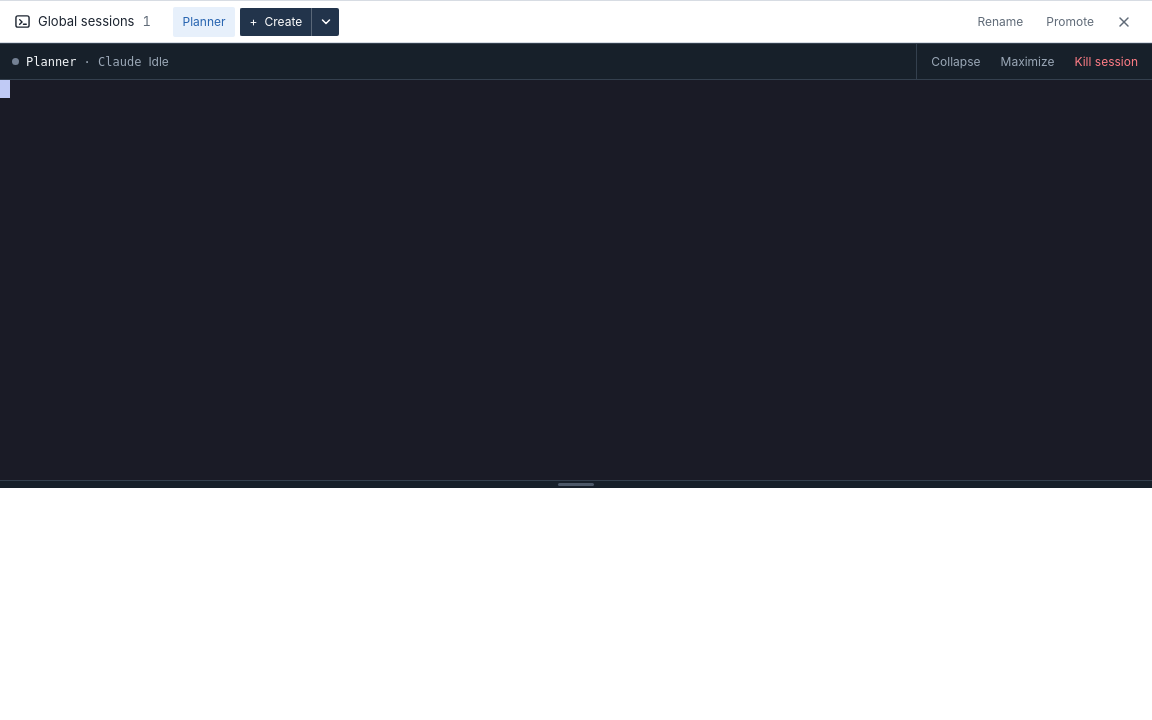
Test case: renames the selected tab and keeps it when kill fails
The width and height of the screenshot is (1152, 720).
Click the button "Rename": (1000, 22) x1=968 y1=7 x2=1032 y2=36
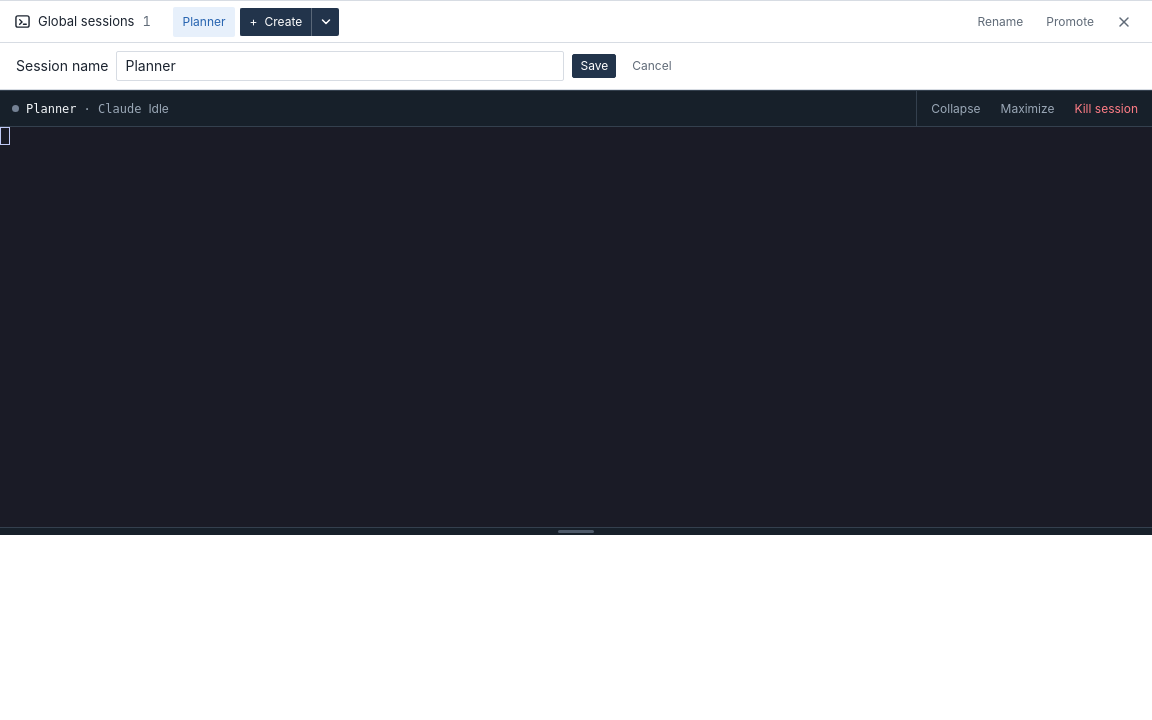
Replace the text in the field labelled "Session name" with "Architect": (340, 66) x1=116 y1=51 x2=564 y2=81
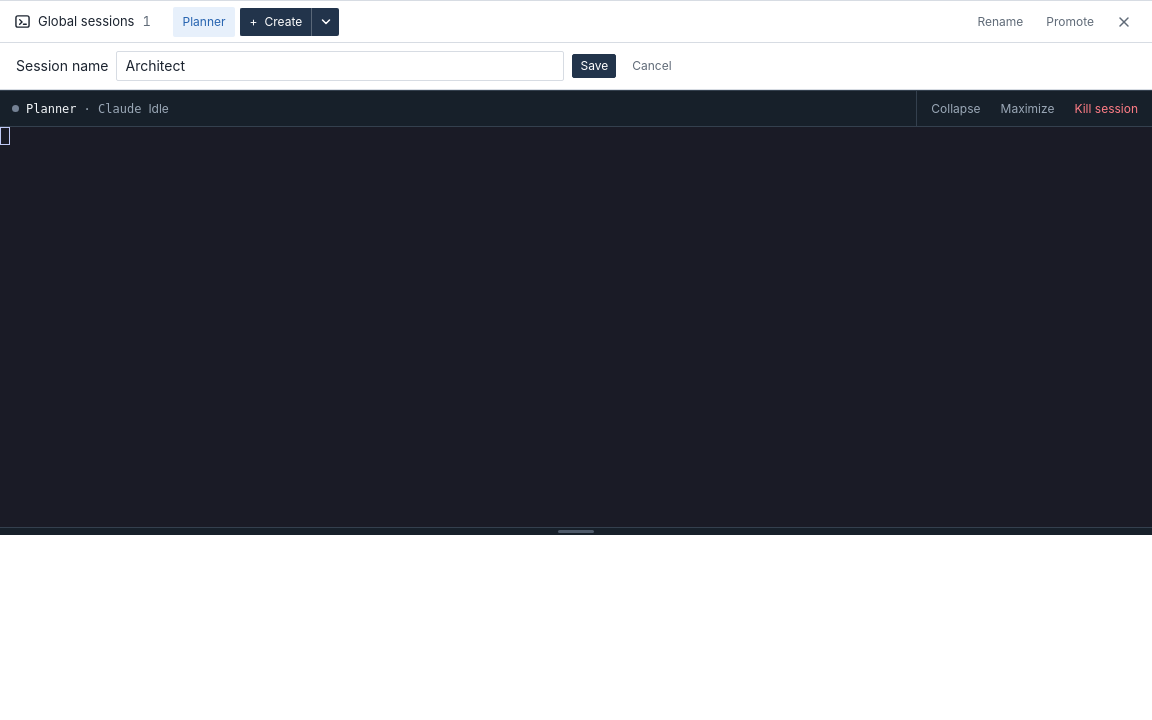
Click the button "Save": (594, 66) x1=572 y1=54 x2=616 y2=78
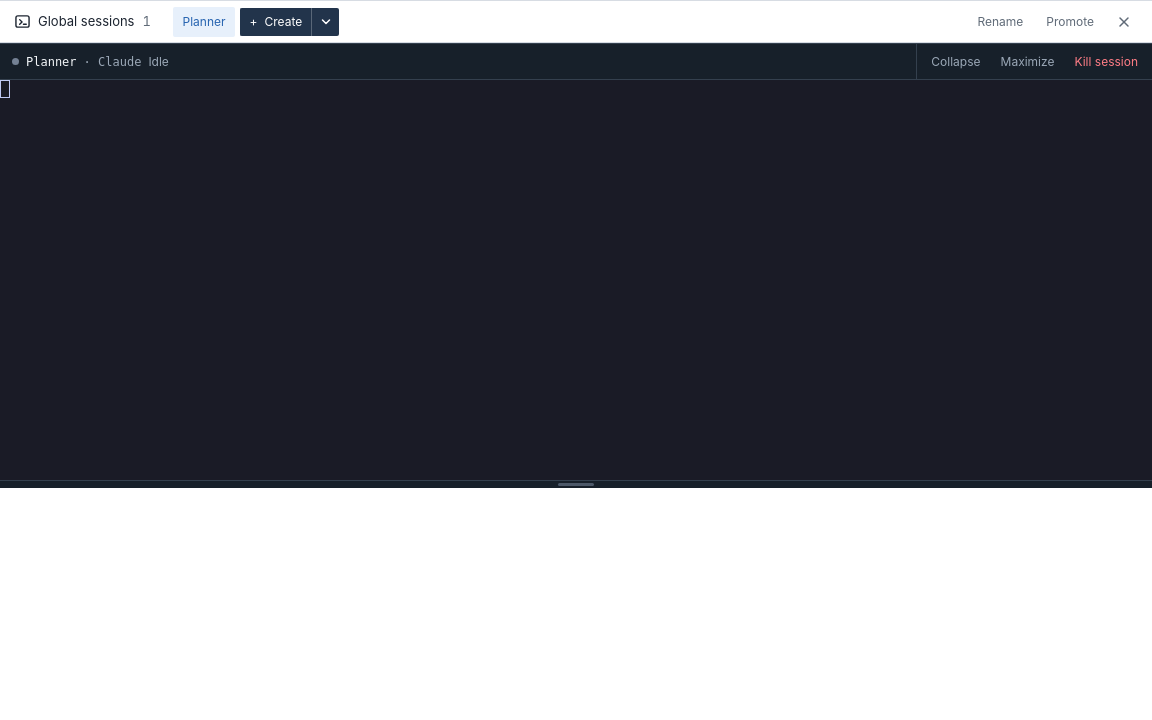
Click the button "Kill session": (1106, 62) x1=1066 y1=50 x2=1146 y2=74
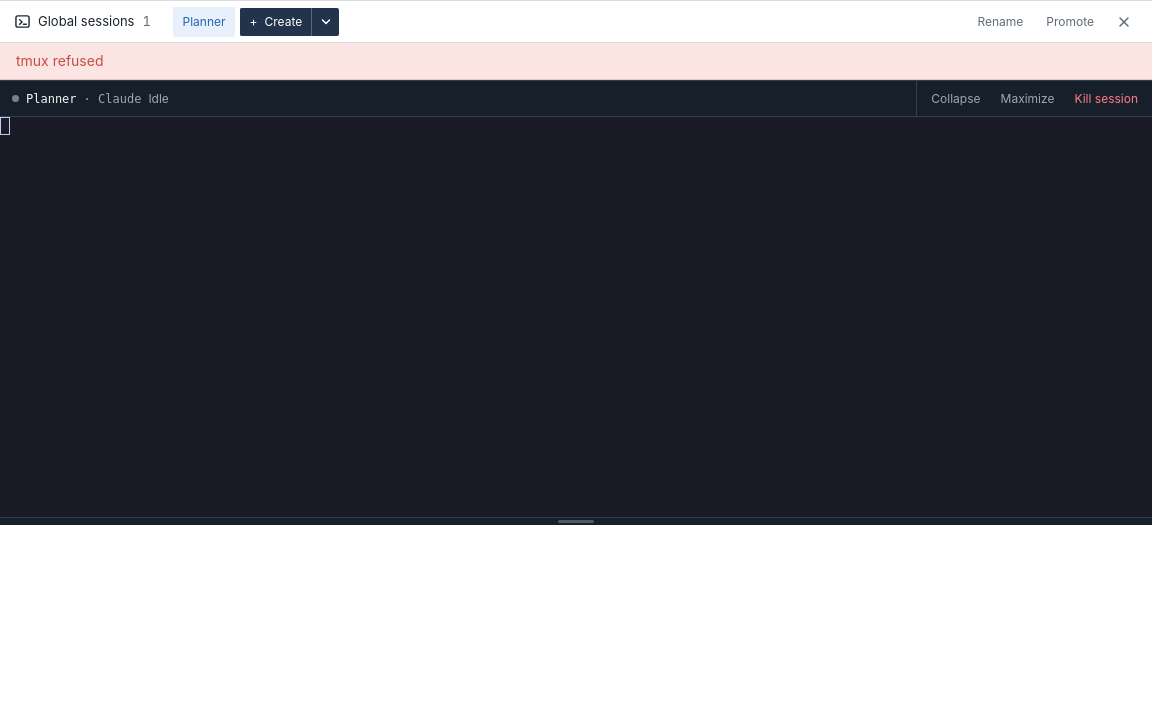
Now the text "tmux refused" is shown, box x1=16 y1=51 x2=104 y2=71
